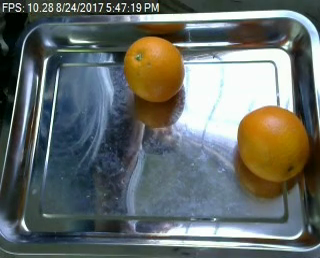Orange: (237, 105, 309, 182), (123, 36, 185, 102)
